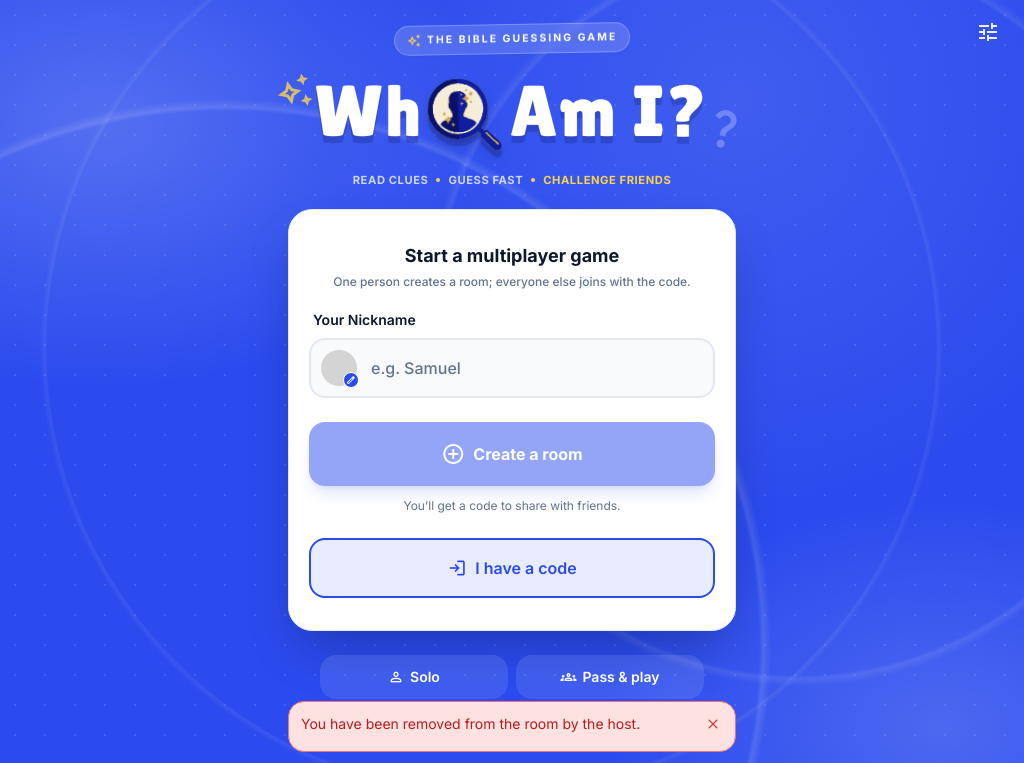
Test case: Home › lets the player dismiss the kick message
Step 1. Click the button named "Dismiss" → (713, 726), box [703, 714, 723, 739]
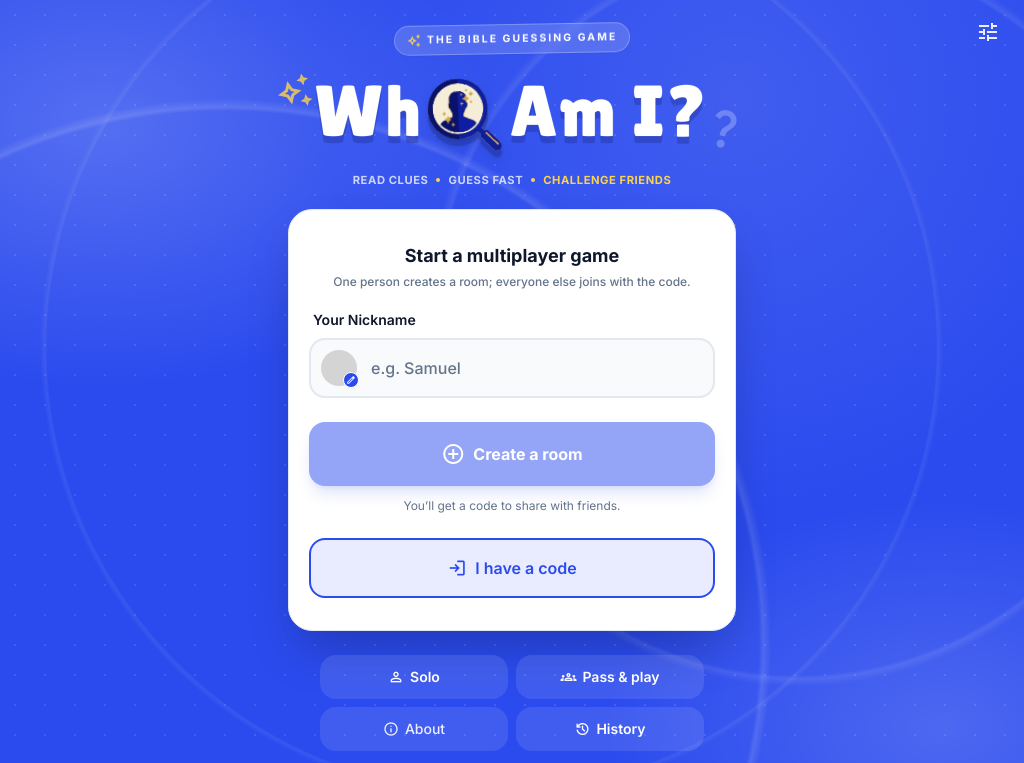
Now the message "You have been removed from the room by the host." is gone
